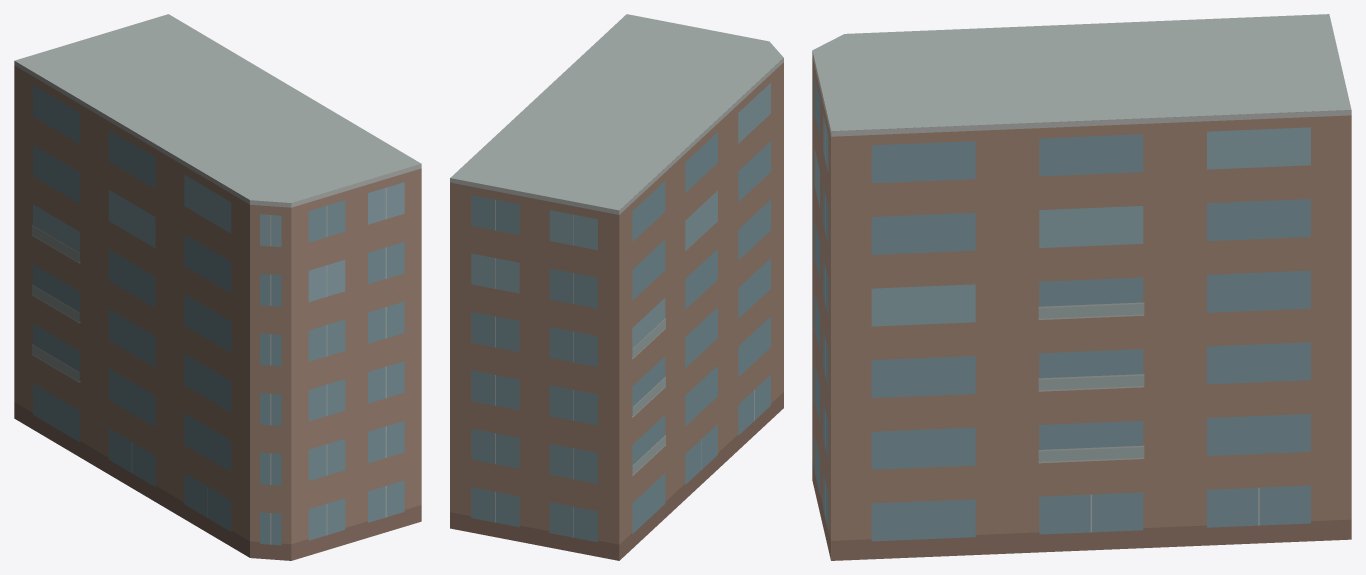
File: survey-upis-32655341.glb
3 renders of one model, left to right at view 1: azimuth 30°, elevation 25°; view 2: azimuth 150°, elevation 25°; view 3: azimuth 270°, elevation 25°, orthographic. The views are drawn at different scales.
Parts seen in each view (by area): view 1: survey-upis-32655341.tmp; view 2: survey-upis-32655341.tmp; view 3: survey-upis-32655341.tmp.
Part boxes in pixels (<box>): survey-upis-32655341.tmp: <box>14,14,421,560</box>; survey-upis-32655341.tmp: <box>450,14,783,560</box>; survey-upis-32655341.tmp: <box>812,14,1351,560</box>.
Bounding box in the file's own units: 11.09 × 18.95 × 21.56.
